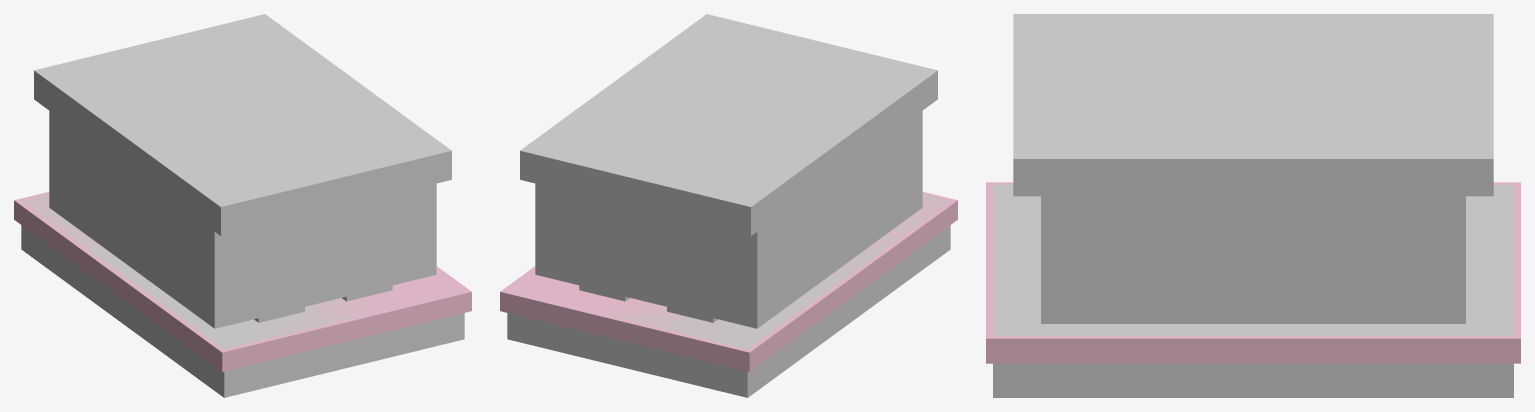
File: touca_confeiteiro.glb
3 renders of one model, left to right at view 1: azimuth 30°, elevation 25°; view 2: azimuth 150°, elevation 25°; view 3: azimuth 270°, elevation 25°, orthographic. The views are drawn at different scales.
Visible parts, largest first — view 1: touca_confeiteiro; view 2: touca_confeiteiro; view 3: touca_confeiteiro.
Part boxes in pixels (x1,y1,x2,y2): touca_confeiteiro: [14, 14, 471, 397]; touca_confeiteiro: [500, 14, 957, 397]; touca_confeiteiro: [986, 14, 1520, 397].
Bounding box in the file's own units: 0.54 × 0.38 × 0.78.
